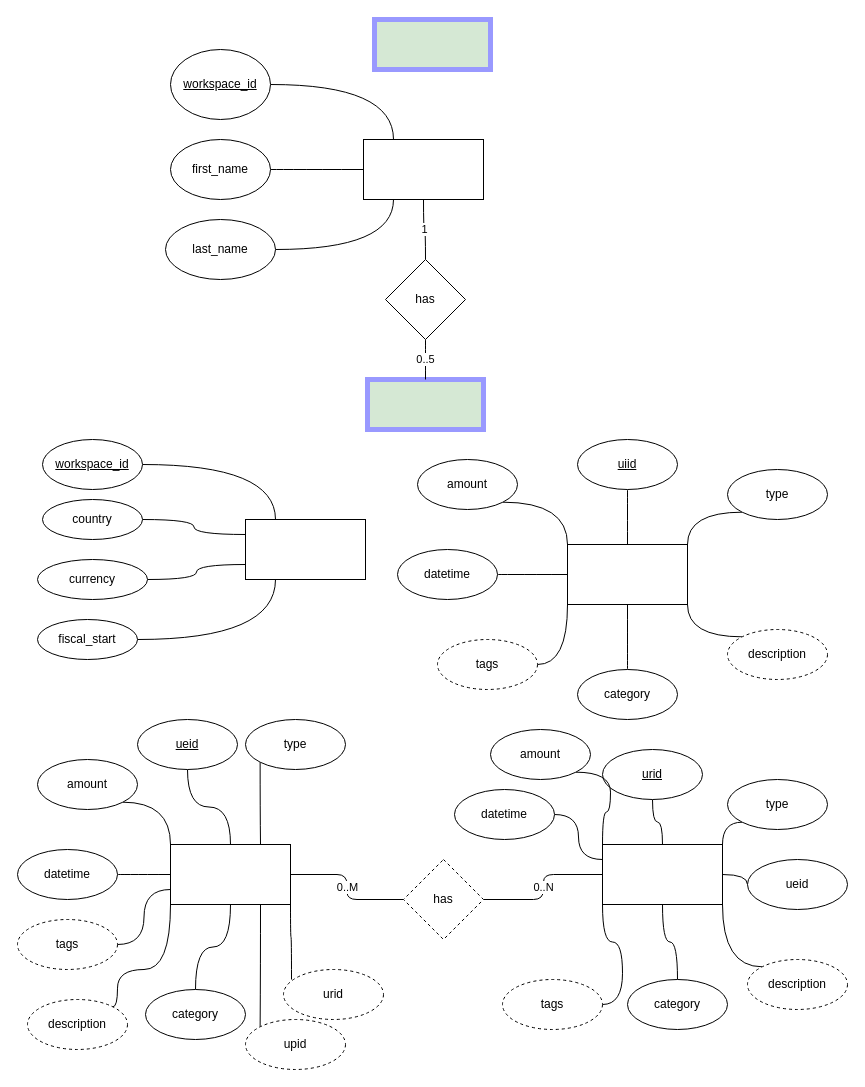
Some shapes in this 865 by 1087 pixel diagram are drawn without their labels. The shapes that lost their labels are listed below. From the top down, each one's centre as x and y in pixels, then its label:
the point at 432,44: MANAGEMENT DATABASE
the point at 423,169: management
the point at 425,404: WORKSPACE DATABASE
the point at 305,549: setting
the point at 627,574: income
the point at 230,874: expenditures
the point at 662,874: returns
